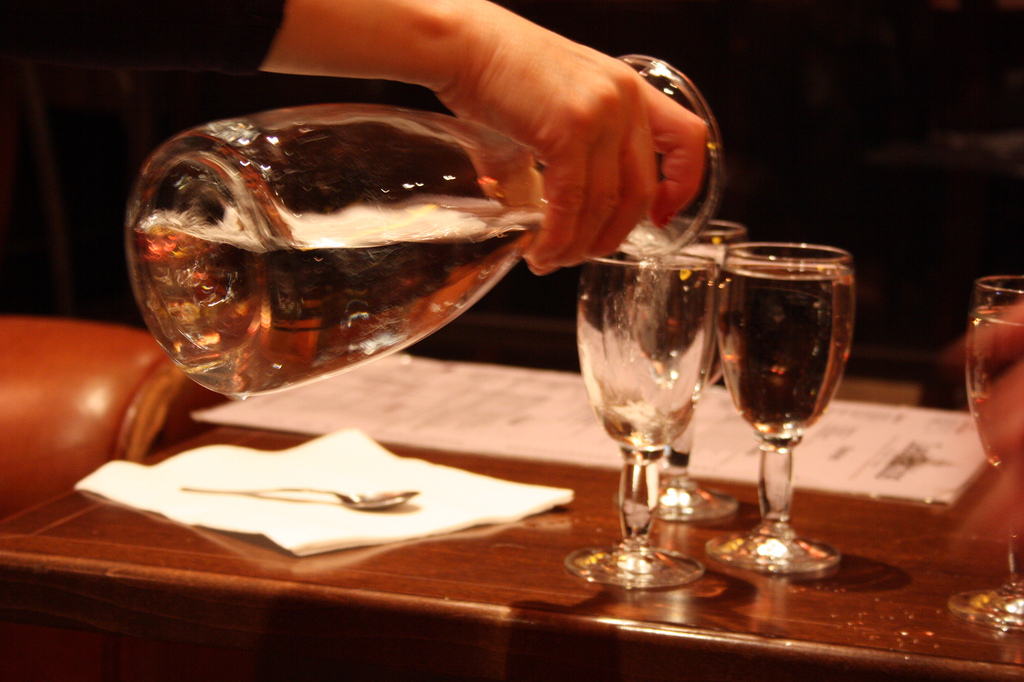glass of water: (117, 65, 600, 409), (576, 243, 731, 605), (721, 230, 861, 583), (966, 263, 1024, 641)
